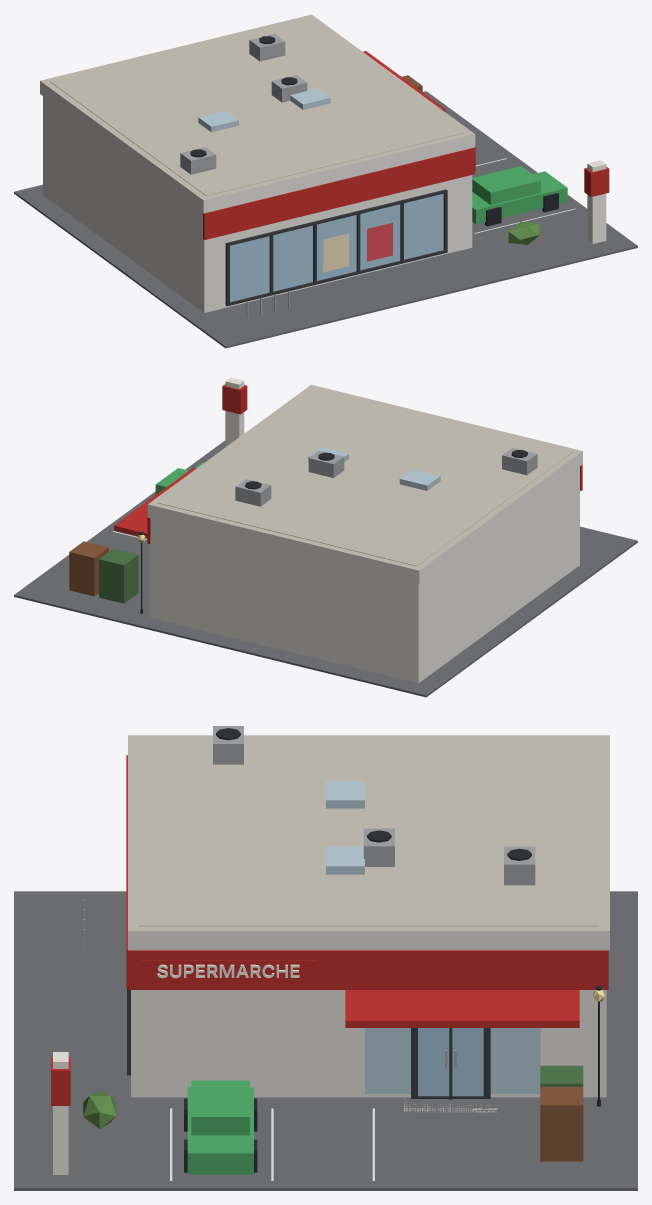
File: Dukkan_cadde_market_Hafif.fbx
The picture shows the model from 3 angles, top to bottom: view 1: azimuth 30°, elevation 25°; view 2: azimuth 150°, elevation 25°; view 3: azimuth 270°, elevation 25°; orthographic projection. The views are drawn at different scales.
Visible parts, largest first — view 1: Dukkan_cadde_market_Hafif; view 2: Dukkan_cadde_market_Hafif; view 3: Dukkan_cadde_market_Hafif.
Part boxes in pixels (x1,y1,x2,y2): Dukkan_cadde_market_Hafif: [14, 14, 637, 348]; Dukkan_cadde_market_Hafif: [14, 377, 637, 697]; Dukkan_cadde_market_Hafif: [14, 726, 637, 1190].
Size of the model in its own units: 18 by 5.52 by 16.
